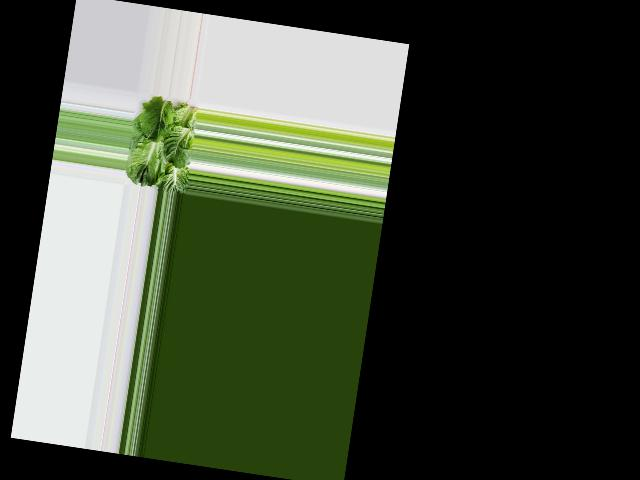lettuce: (125, 95, 200, 192)
